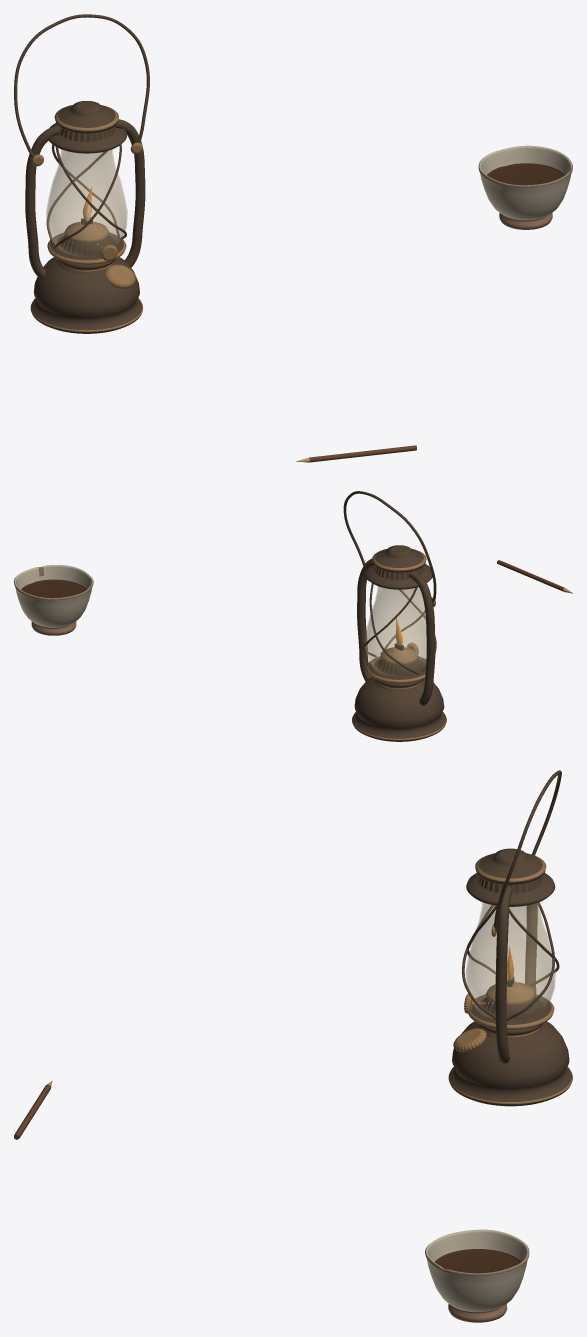
File: desk-props.glb
3 views of the same model, one above another, from view 1: azimuth 30°, elevation 25°; view 2: azimuth 150°, elevation 25°; view 3: azimuth 270°, elevation 25° (orthographic). The views are drawn at different scales.
Parts seen in each view (by area): view 1: 薄壁玻璃灯罩, 铆压油箱与底座, 有圈足的灰釉薄胎碗, 中空侧导管, 带烟熏的帽盖, 中空侧导管.001, 提梁钢丝, 茶汤及弯月形边缘, 烟帽下卷边, 燃烧器下碟, 灯芯座, 六棱漆杆 (+1 smaller); view 2: 铆压油箱与底座, 薄壁玻璃灯罩, 有圈足的灰釉薄胎碗, 中空侧导管, 带烟熏的帽盖, 中空侧导管.001, 燃烧器下碟, 茶汤及弯月形边缘, 烟帽下卷边, 提梁钢丝, 灯芯座, 六棱漆杆 (+1 smaller); view 3: 铆压油箱与底座, 薄壁玻璃灯罩, 有圈足的灰釉薄胎碗, 中空侧导管.001, 带烟熏的帽盖, 茶汤及弯月形边缘, 烟帽下卷边, 燃烧器下碟, 提梁钢丝, 中空侧导管, 灯芯座.
Part boxes in pixels (bbox=[...]): 薄壁玻璃灯罩: bbox=[46, 149, 127, 256]; 铆压油箱与底座: bbox=[30, 257, 142, 333]; 有圈足的灰釉薄胎碗: bbox=[478, 145, 572, 229]; 中空侧导管: bbox=[25, 125, 65, 278]; 带烟熏的帽盖: bbox=[54, 101, 118, 133]; 中空侧导管.001: bbox=[115, 119, 145, 267]; 提梁钢丝: bbox=[14, 14, 149, 157]; 茶汤及弯月形边缘: bbox=[487, 163, 564, 185]; 烟帽下卷边: bbox=[48, 123, 126, 153]; 燃烧器下碟: bbox=[47, 232, 126, 264]; 灯芯座: bbox=[64, 221, 109, 242]; 六棱漆杆: bbox=[309, 445, 416, 462]; 铆压油箱与底座: bbox=[352, 677, 446, 741]; 薄壁玻璃灯罩: bbox=[365, 586, 426, 676]; 有圈足的灰釉薄胎碗: bbox=[14, 565, 93, 635]; 中空侧导管: bbox=[409, 570, 435, 705]; 带烟熏的帽盖: bbox=[372, 545, 426, 572]; 中空侧导管.001: bbox=[357, 558, 373, 681]; 燃烧器下碟: bbox=[366, 656, 425, 683]; 茶汤及弯月形边缘: bbox=[21, 579, 86, 598]; 烟帽下卷边: bbox=[365, 564, 432, 589]; 提梁钢丝: bbox=[343, 491, 436, 602]; 灯芯座: bbox=[380, 647, 418, 665]; 六棱漆杆: bbox=[497, 560, 564, 591]; 铆压油箱与底座: bbox=[448, 1021, 572, 1106]; 薄壁玻璃灯罩: bbox=[465, 902, 555, 1020]; 有圈足的灰釉薄胎碗: bbox=[425, 1229, 529, 1322]; 中空侧导管.001: bbox=[495, 884, 513, 1063]; 带烟熏的帽盖: bbox=[475, 848, 546, 884]; 茶汤及弯月形边缘: bbox=[435, 1249, 520, 1273]; 烟帽下卷边: bbox=[466, 873, 555, 906]; 燃烧器下碟: bbox=[468, 994, 554, 1029]; 提梁钢丝: bbox=[494, 770, 561, 931]; 中空侧导管: bbox=[525, 903, 537, 993]; 灯芯座: bbox=[486, 981, 535, 1005].
Bounding box in the file's own units: 0.7487 × 0.3866 × 0.6286.
